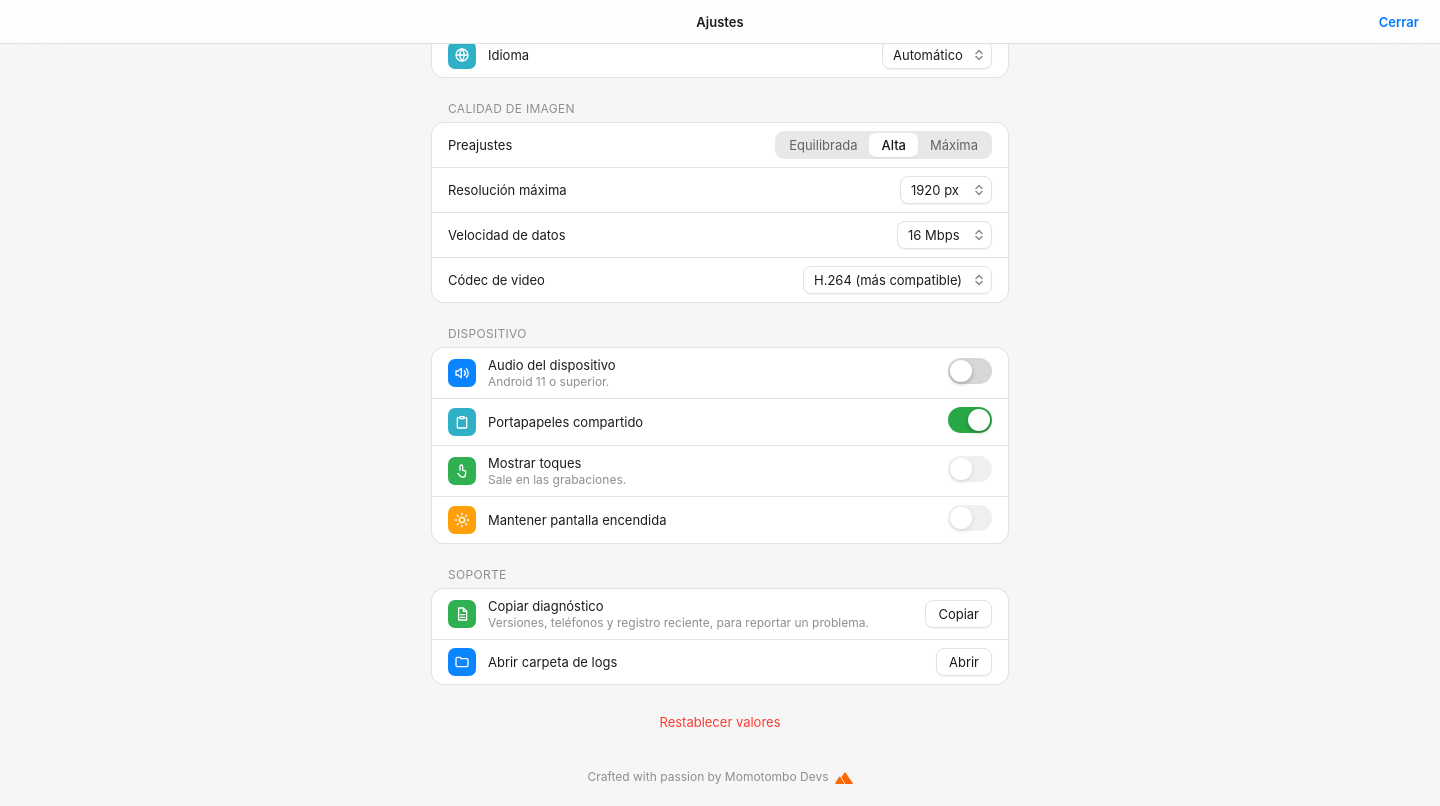
Test: SettingsPanel › shows why the report could not be copied
(page scrolled)
Click the button with aria-label "Copiar diagnóstico".
click(959, 614)  # box [925,600,992,628]
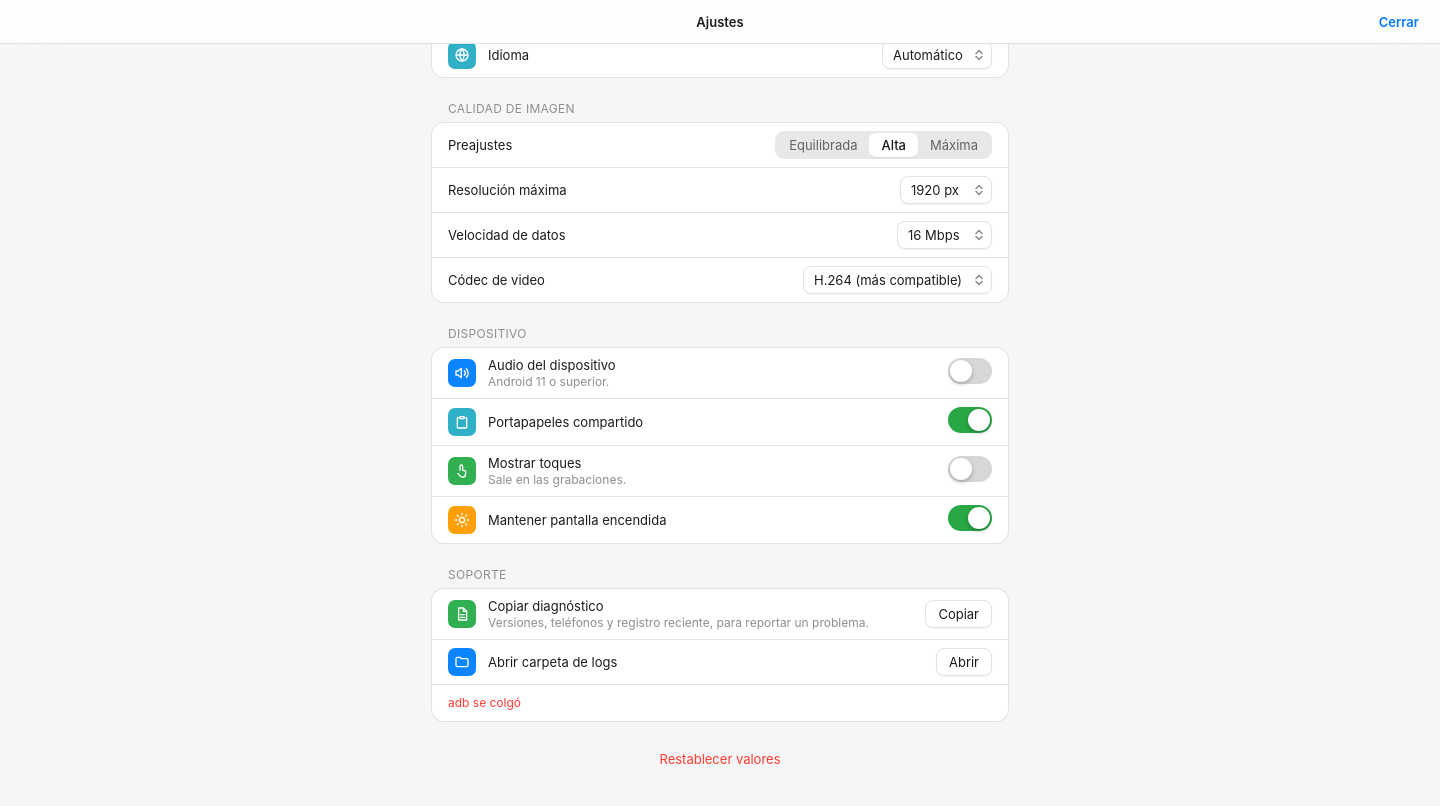
Expected: the message reads "adb se colgó", [448,695,521,710]
